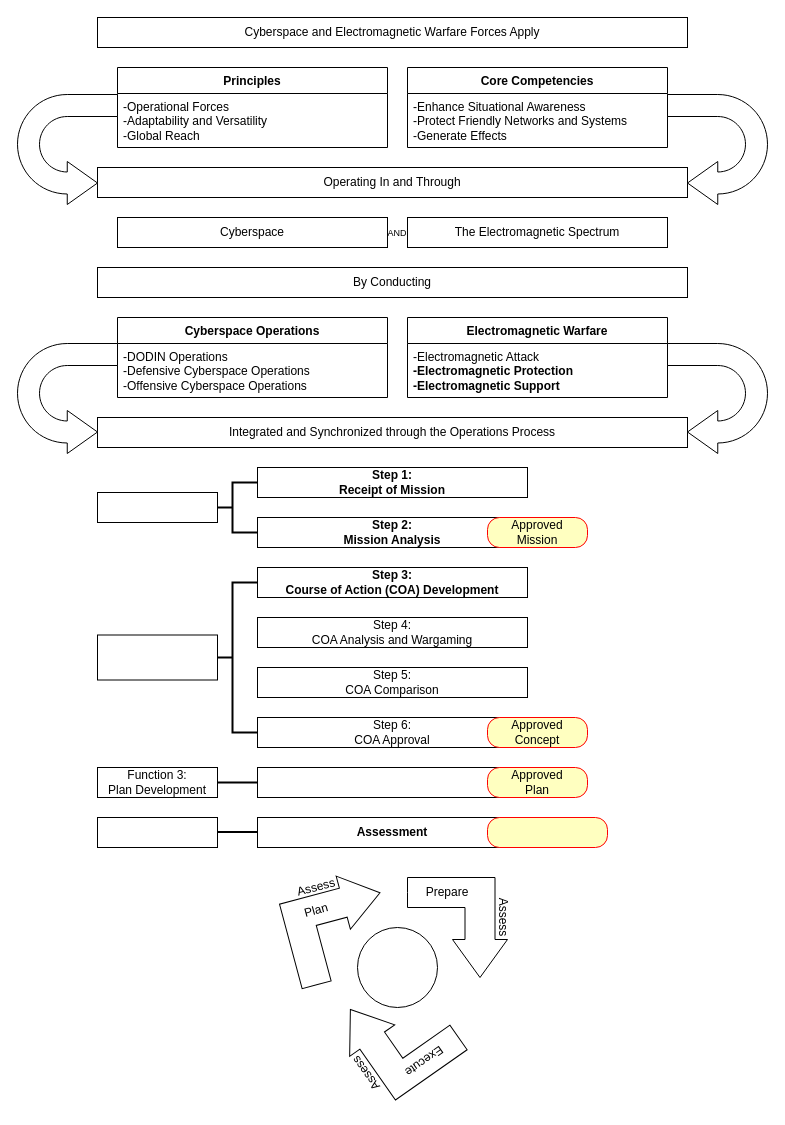
The diagram is 785 pixels wide and 1125 high, and some of its shapes have lost their labels. Here are the shapes that lost their labels. From the top down, the centre of each, then its label:
At (157,507): "Function 1: Strategic Guidance".
At (157,657): "Function 2: Concept Development".
At (392,782): "Step 7: Operations Order Production".
At (157,832): "Function 4: Plan Assessment".
At (547,832): "Refine, Adapt, Terminate or Execute".
At (397,967): "Commander".
